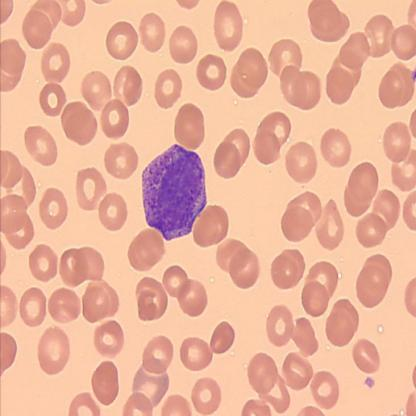Myelocyte: (144, 144, 206, 241)
